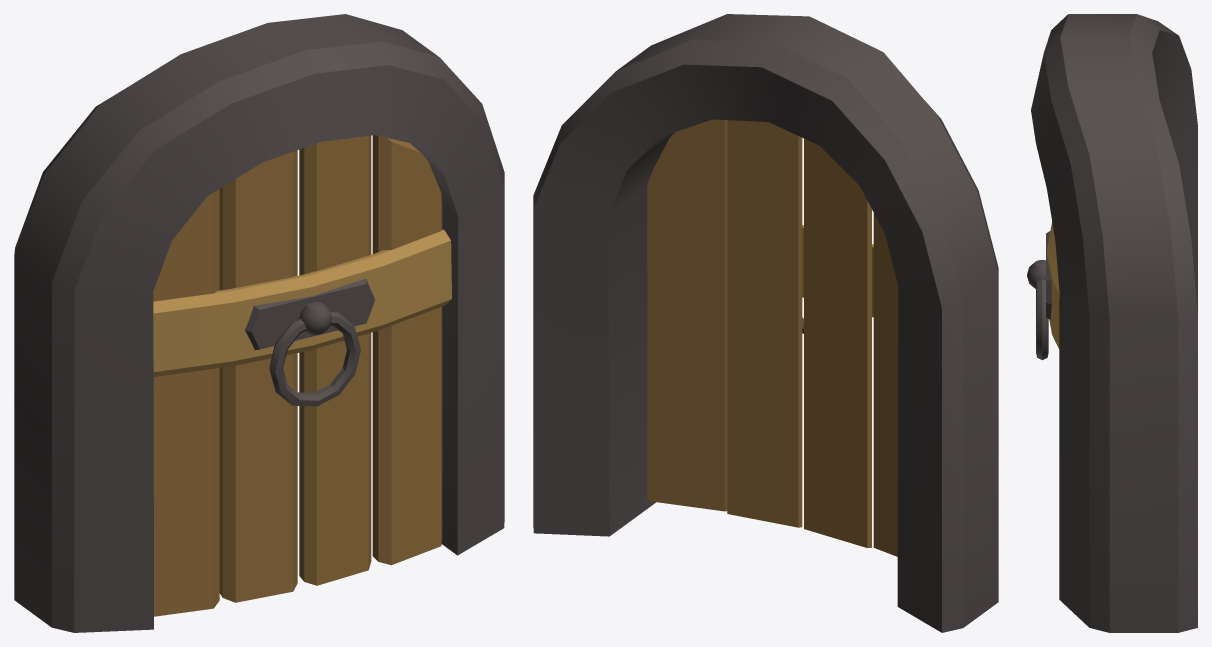
The model's file is quaternius-platformer-game-door.glb.
The picture shows the model from 3 angles, left to right: view 1: azimuth 30°, elevation 25°; view 2: azimuth 150°, elevation 25°; view 3: azimuth 270°, elevation 25°; orthographic projection. The views are drawn at different scales.
Parts seen in each view (by area): view 1: Door; view 2: Door; view 3: Door.
Part boxes in pixels (bbox=[...]): Door: bbox=[14, 14, 504, 632]; Door: bbox=[533, 14, 998, 632]; Door: bbox=[1027, 14, 1197, 632].
Size of the model in its own units: 3.71 by 4.24 by 1.33.
